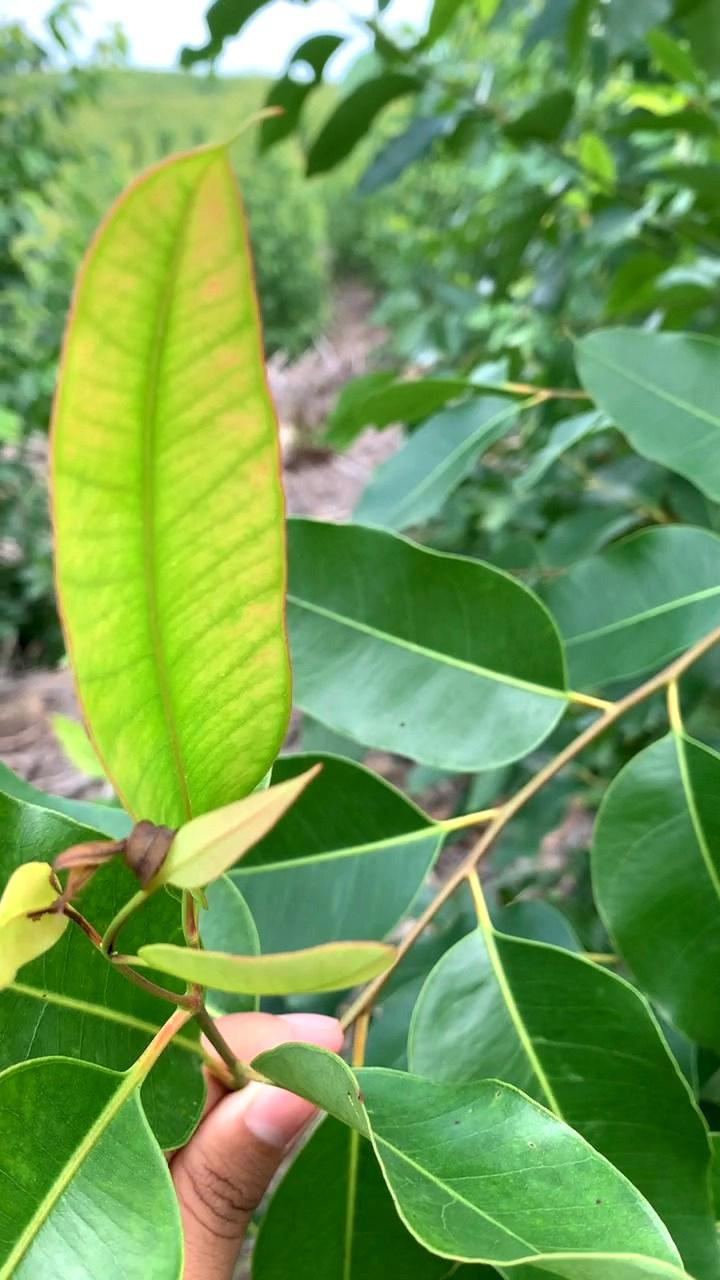Helopeltis-Withered Sprout: (45, 817, 180, 914)
